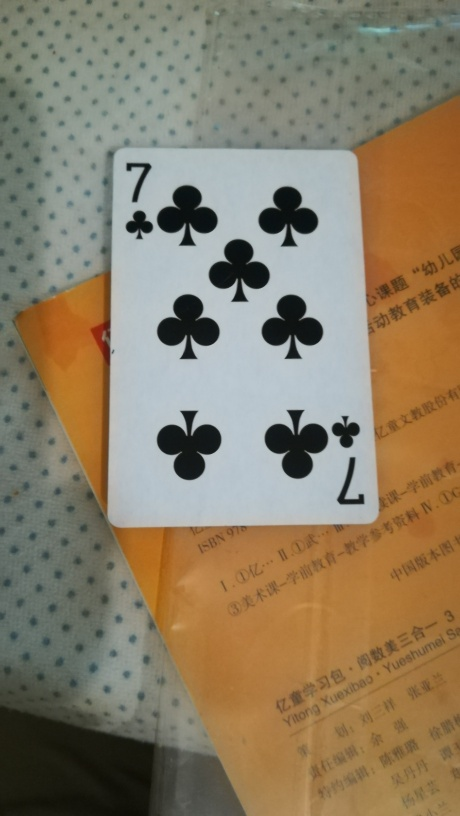mh 7: (109, 141, 379, 530)
